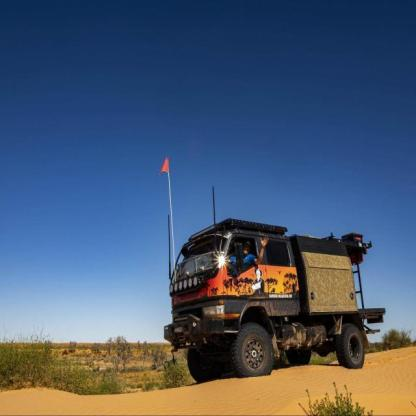truck: (163, 221, 390, 374)
